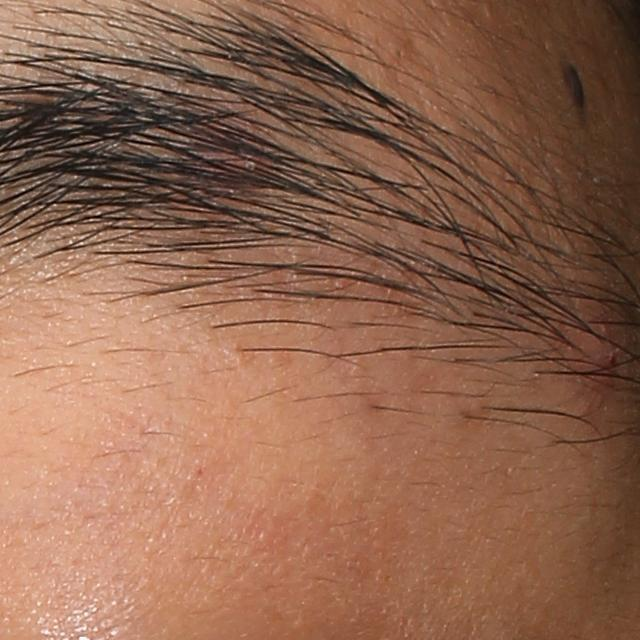nevus: (555, 53, 587, 128)
